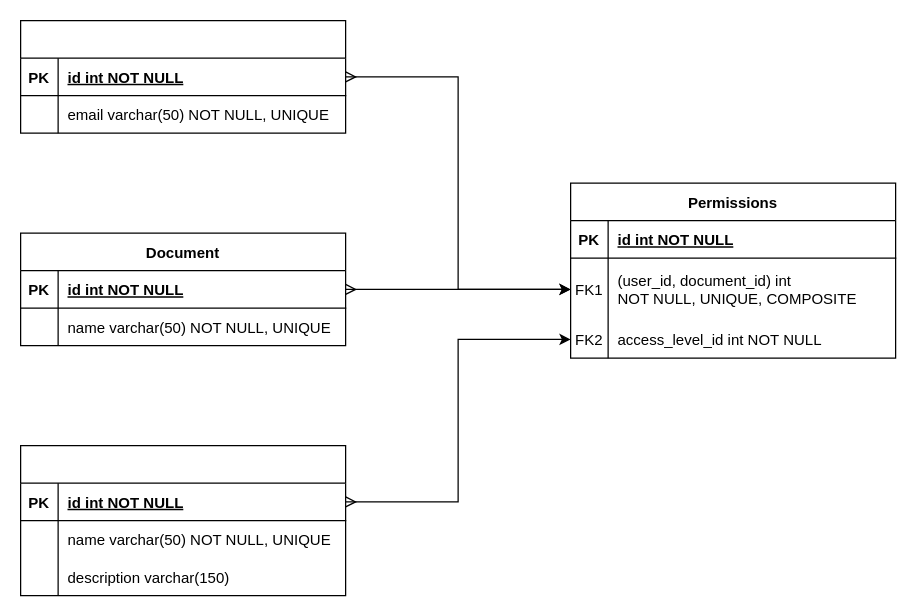
Some shapes in this 916 by 616 pixel diagram are drawn without their labels. Here are the shapes that lost their labels. From the top down, the box of each, then its label:
(19, 19, 346, 133): User
(19, 444, 346, 596): AccessLevel
